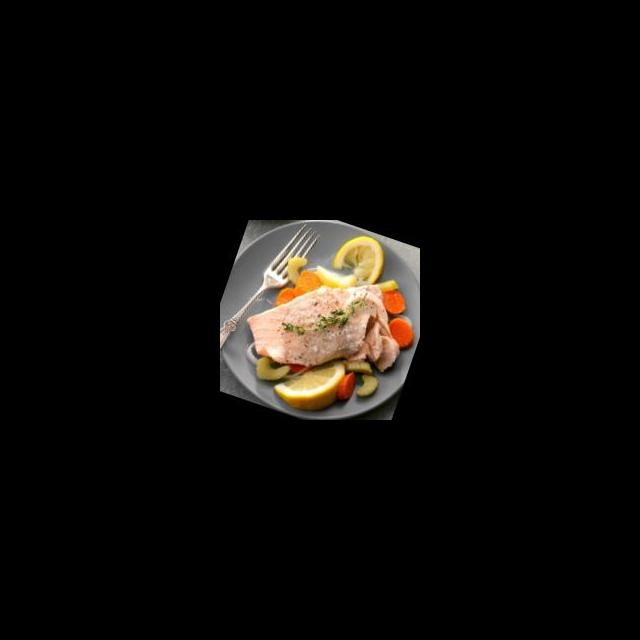ca hoi: (238, 246, 420, 399)
